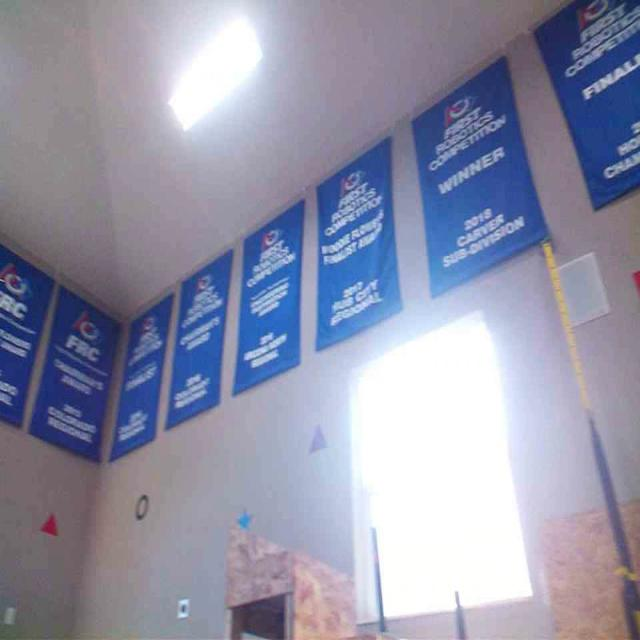ring_black: (134, 494, 149, 518)
triangle_purple: (308, 424, 328, 452)
triangle_red: (41, 513, 58, 537)
